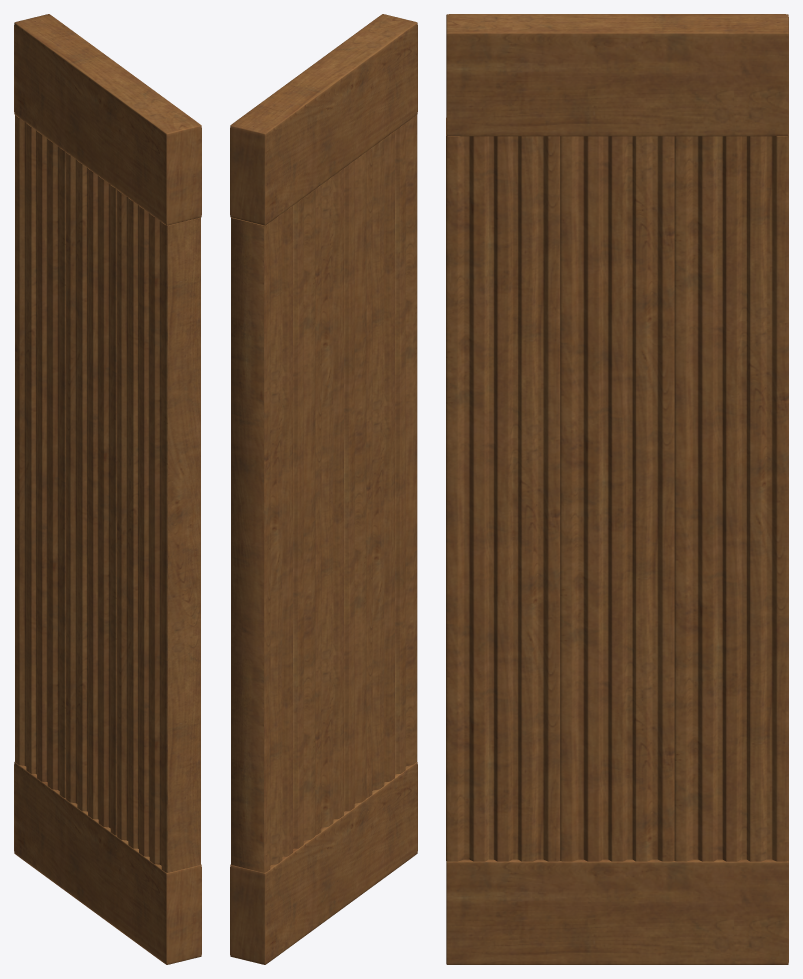
Rendered from SM_Office_wall01l.fbx.
3 renders of one model, left to right at view 1: azimuth 30°, elevation 25°; view 2: azimuth 150°, elevation 25°; view 3: azimuth 270°, elevation 25°, orthographic. The views are drawn at different scales.
Visible parts, largest first — view 1: SM_Office_wall01l_LOD0; view 2: SM_Office_wall01l_LOD0; view 3: SM_Office_wall01l_LOD0.
Boxes of the visible parts, box(x1,y1,x2,y2) form: SM_Office_wall01l_LOD0: box(14, 14, 201, 964); SM_Office_wall01l_LOD0: box(230, 14, 417, 964); SM_Office_wall01l_LOD0: box(446, 14, 788, 964).
Size of the model in its own units: 20.27 by 150 by 450.
